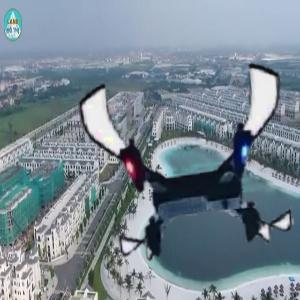drone: (83, 57, 292, 266)
